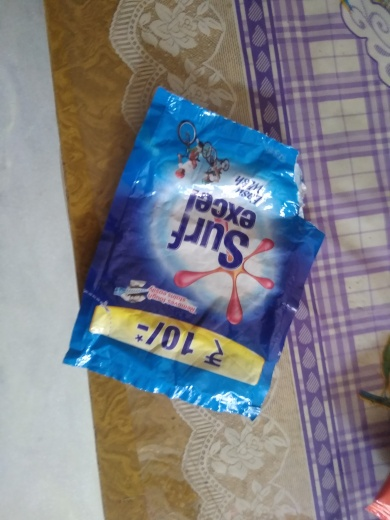surf: (61, 84, 322, 437)
